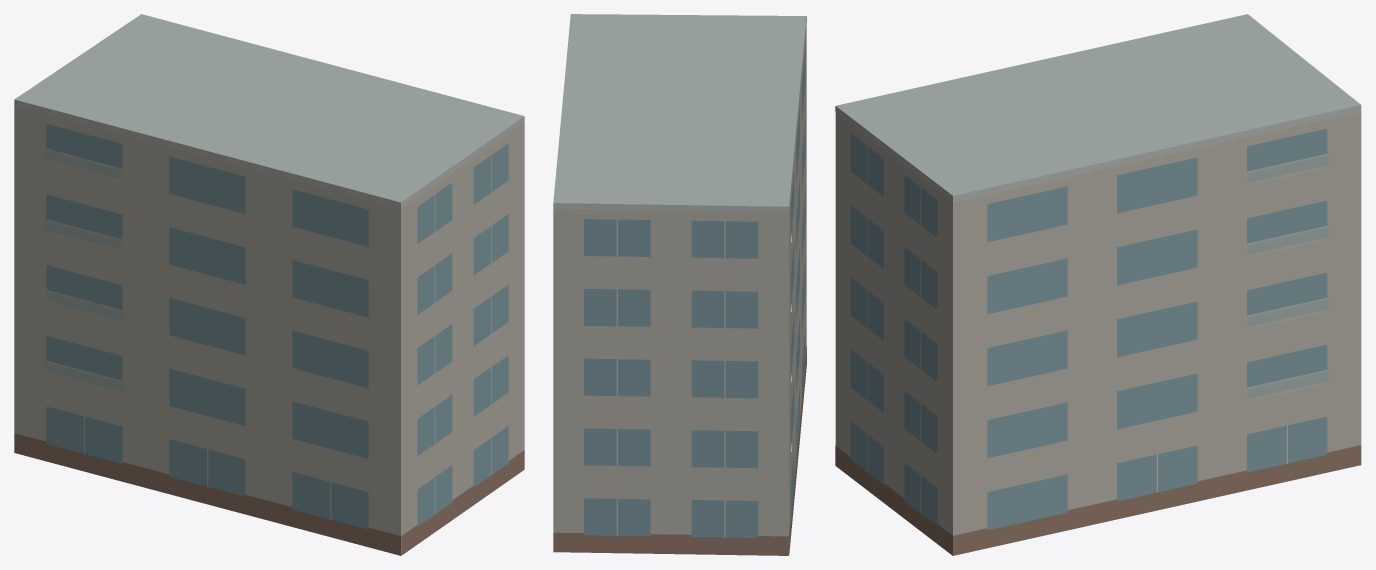
Rendered from survey-upis-32893700.glb.
3 views of the same model, side by side, from view 1: azimuth 30°, elevation 25°; view 2: azimuth 150°, elevation 25°; view 3: azimuth 270°, elevation 25° (orthographic). The views are drawn at different scales.
Parts seen in each view (by area): view 1: survey-upis-32893700.tmp; view 2: survey-upis-32893700.tmp; view 3: survey-upis-32893700.tmp.
Boxes of the visible parts, left/top/right/bottom form: survey-upis-32893700.tmp: left=14, top=14, right=524, bottom=555; survey-upis-32893700.tmp: left=553, top=14, right=806, bottom=555; survey-upis-32893700.tmp: left=835, top=14, right=1361, bottom=555.
Size of the model in its own units: 14.2 by 13.1 by 17.35.
